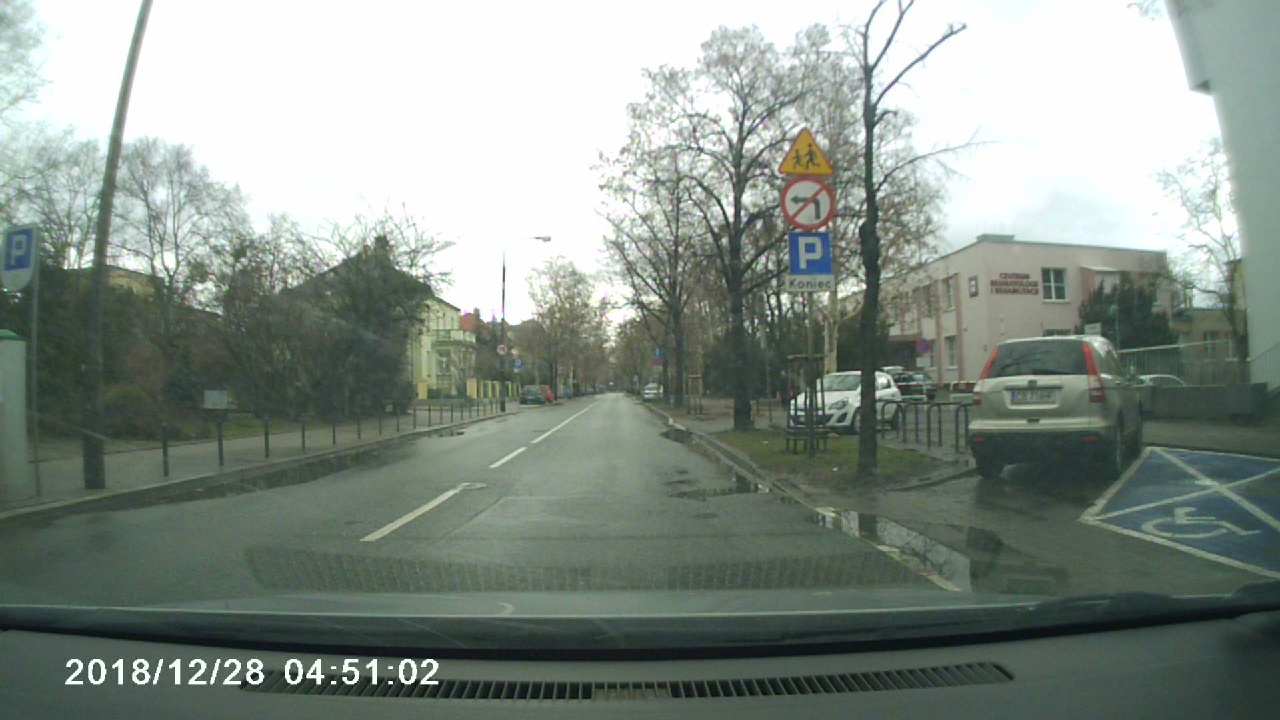A17: (775, 126, 836, 176)
B21: (779, 178, 837, 232)
D18: (788, 231, 832, 274), (3, 227, 33, 268)
